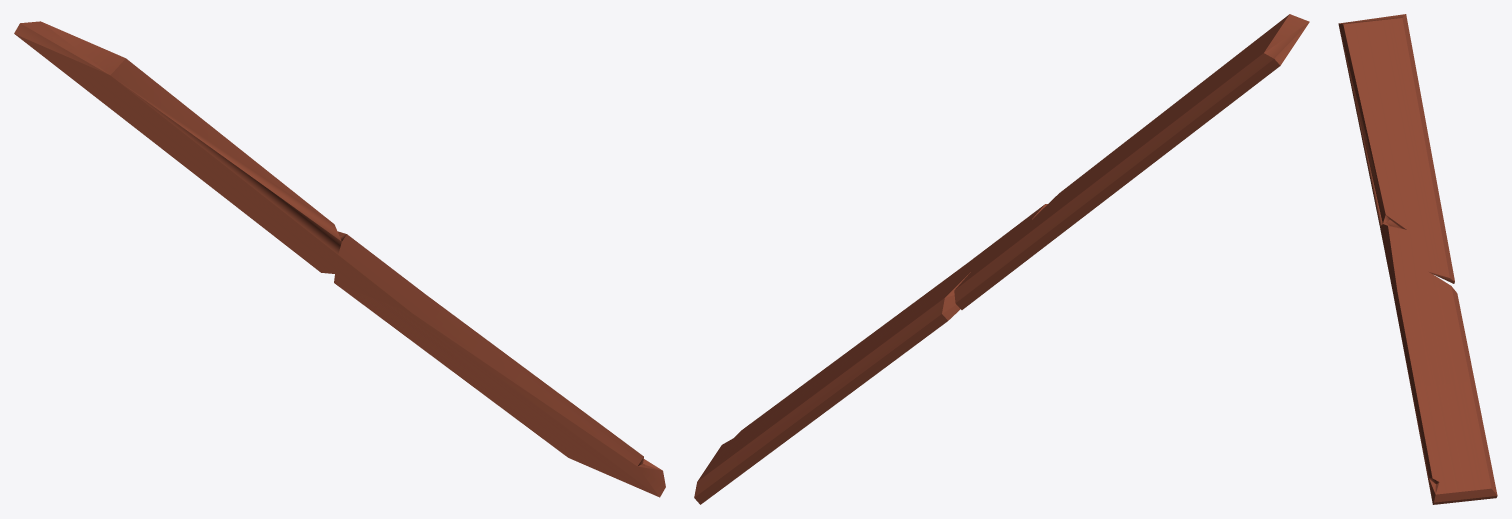
The model's file is beam.fbx.
3 views of the same model, side by side, from view 1: azimuth 30°, elevation 25°; view 2: azimuth 150°, elevation 25°; view 3: azimuth 270°, elevation 25° (orthographic). The views are drawn at different scales.
Visible parts, largest first — view 1: WoodenTable2.003; view 2: WoodenTable2.003; view 3: WoodenTable2.003.
Part boxes in pixels (left/top/right/bottom): WoodenTable2.003: left=14, top=21, right=665, bottom=497; WoodenTable2.003: left=694, top=14, right=1309, bottom=504; WoodenTable2.003: left=1338, top=14, right=1497, bottom=504.
Size of the model in its own units: 29.91 by 27.59 by 12.12.
